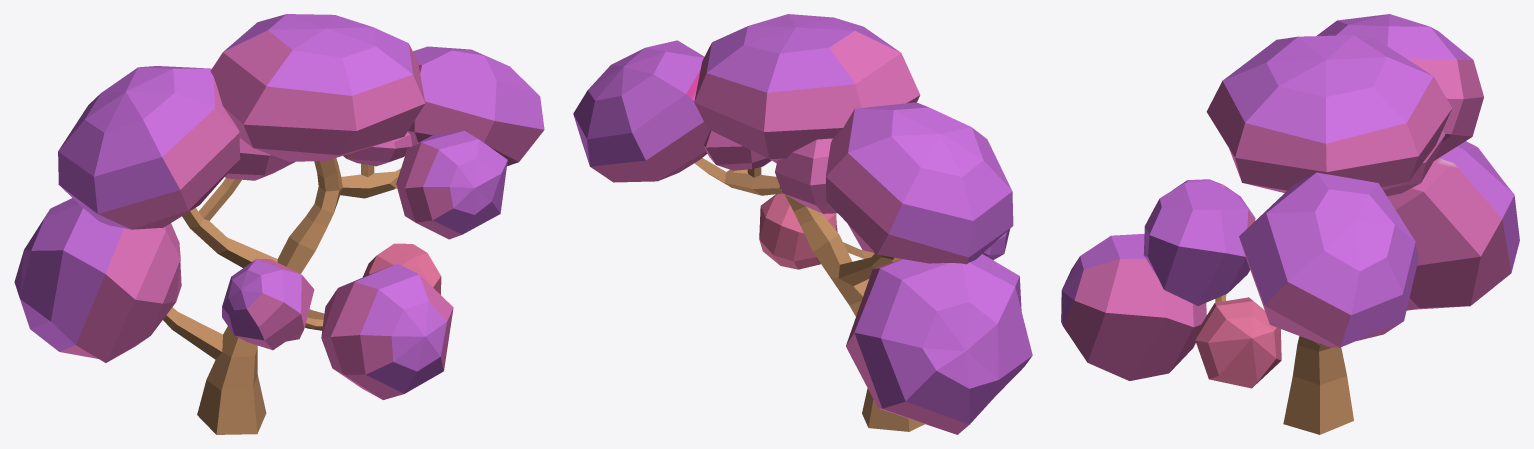
The model's file is BIgSakuraTree.fbx.
3 renders of one model, left to right at view 1: azimuth 30°, elevation 25°; view 2: azimuth 150°, elevation 25°; view 3: azimuth 270°, elevation 25°, orthographic. The views are drawn at different scales.
Parts seen in each view (by area): view 1: Big_Tree1; view 2: Big_Tree1; view 3: Big_Tree1.
Part boxes in pixels (bbox=[...]): Big_Tree1: bbox=[14, 14, 544, 434]; Big_Tree1: bbox=[573, 14, 1032, 434]; Big_Tree1: bbox=[1061, 14, 1519, 434].
Size of the model in its own units: 26.55 by 20.31 by 20.51.
